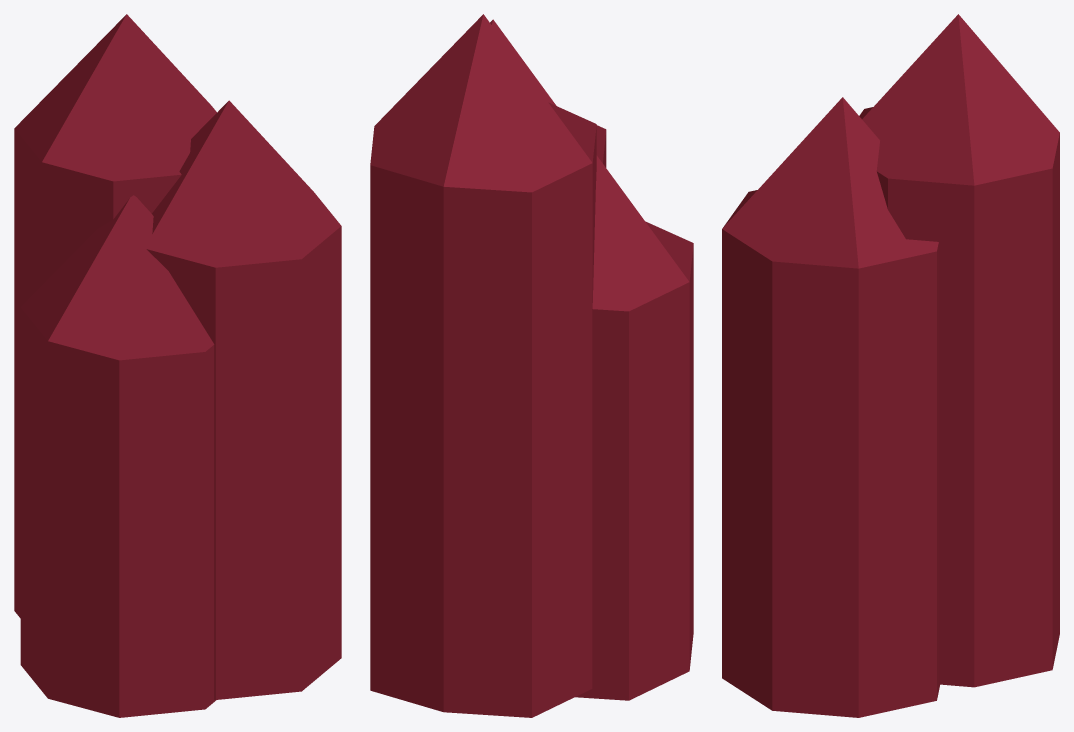
Rendered from Crystal.gltf.
The picture shows the model from 3 angles, left to right: view 1: azimuth 30°, elevation 25°; view 2: azimuth 150°, elevation 25°; view 3: azimuth 270°, elevation 25°; orthographic projection. The views are drawn at different scales.
Parts seen in each view (by area): view 1: Cube.037; view 2: Cube.037; view 3: Cube.037.
Part boxes in pixels (box(x1,y1,x2,y2)): Cube.037: box(14, 14, 341, 717); Cube.037: box(370, 14, 693, 717); Cube.037: box(722, 14, 1059, 717).
Bounding box in the file's own units: 0.1514 × 0.3237 × 0.1559.
